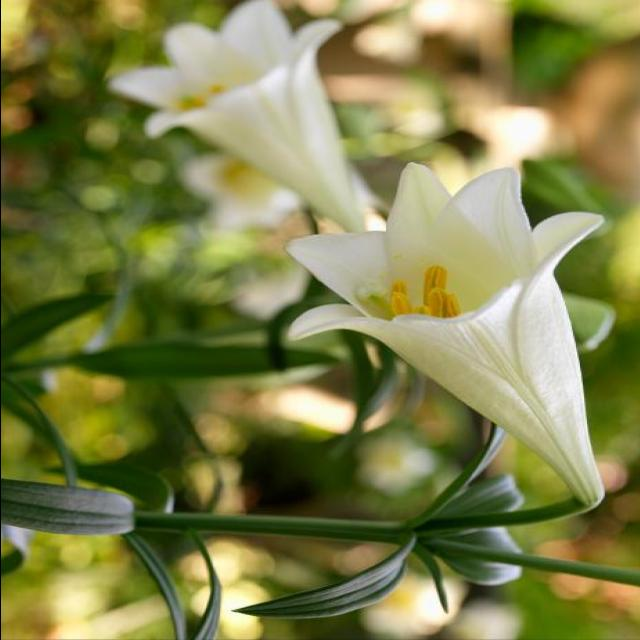lily: (276, 158, 614, 564)
